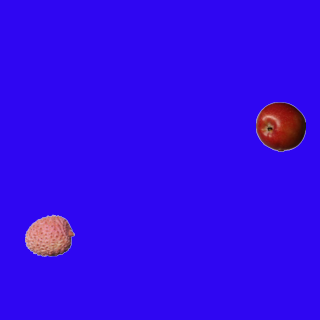Apple Braeburn: (255, 101, 305, 151)
Lychee: (24, 210, 74, 260)
